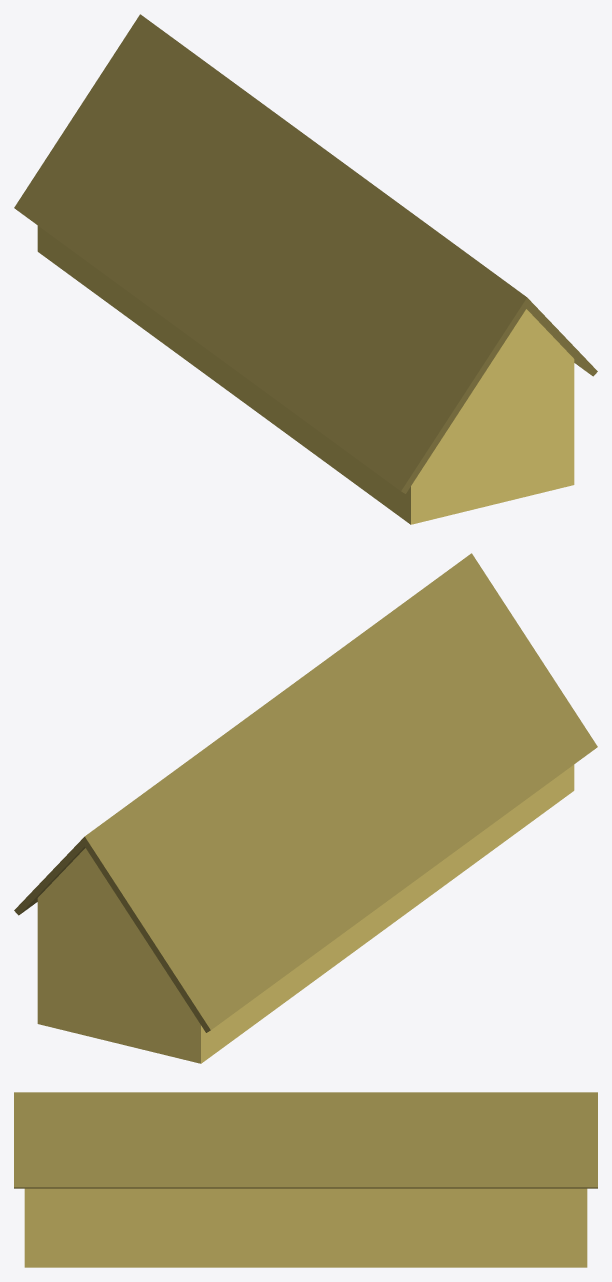
File: result.glb
3 renders of one model, top to bottom at view 1: azimuth 30°, elevation 25°; view 2: azimuth 150°, elevation 25°; view 3: azimuth 270°, elevation 25°, orthographic. The views are drawn at different scales.
Parts seen in each view (by area): view 1: 56090337-9151-42fb-b0ad-04de8d554a89__undefined (×2), 75e3b30f-d71e-4114-9755-7b9ed678dc72__undefined; view 2: 56090337-9151-42fb-b0ad-04de8d554a89__undefined (×2), 75e3b30f-d71e-4114-9755-7b9ed678dc72__undefined; view 3: 56090337-9151-42fb-b0ad-04de8d554a89__undefined, 75e3b30f-d71e-4114-9755-7b9ed678dc72__undefined.
Boxes of the visible parts, left/top/right/bottom form: 56090337-9151-42fb-b0ad-04de8d554a89__undefined (×2): left=14, top=14, right=597, bottom=493; 75e3b30f-d71e-4114-9755-7b9ed678dc72__undefined: left=37, top=225, right=574, bottom=524; 56090337-9151-42fb-b0ad-04de8d554a89__undefined (×2): left=14, top=553, right=597, bottom=1032; 75e3b30f-d71e-4114-9755-7b9ed678dc72__undefined: left=37, top=764, right=574, bottom=1063; 56090337-9151-42fb-b0ad-04de8d554a89__undefined: left=14, top=1092, right=597, bottom=1188; 75e3b30f-d71e-4114-9755-7b9ed678dc72__undefined: left=24, top=1188, right=587, bottom=1267.
Size of the model in its own units: 813 by 812 by 2767.
